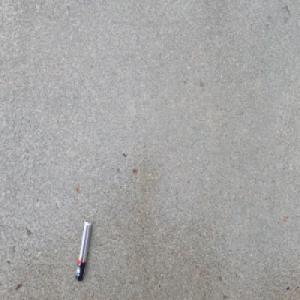Battery: (74, 217, 92, 282)
